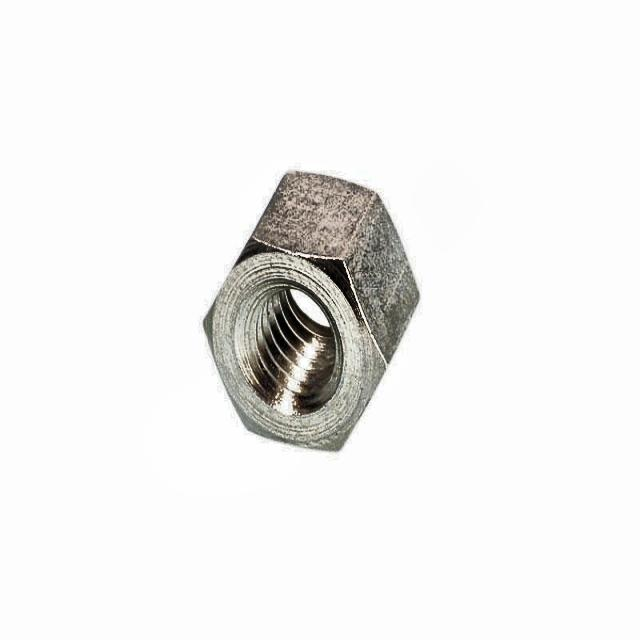Nut Detection - v1 Nut Dataset: (192, 161, 453, 460)
